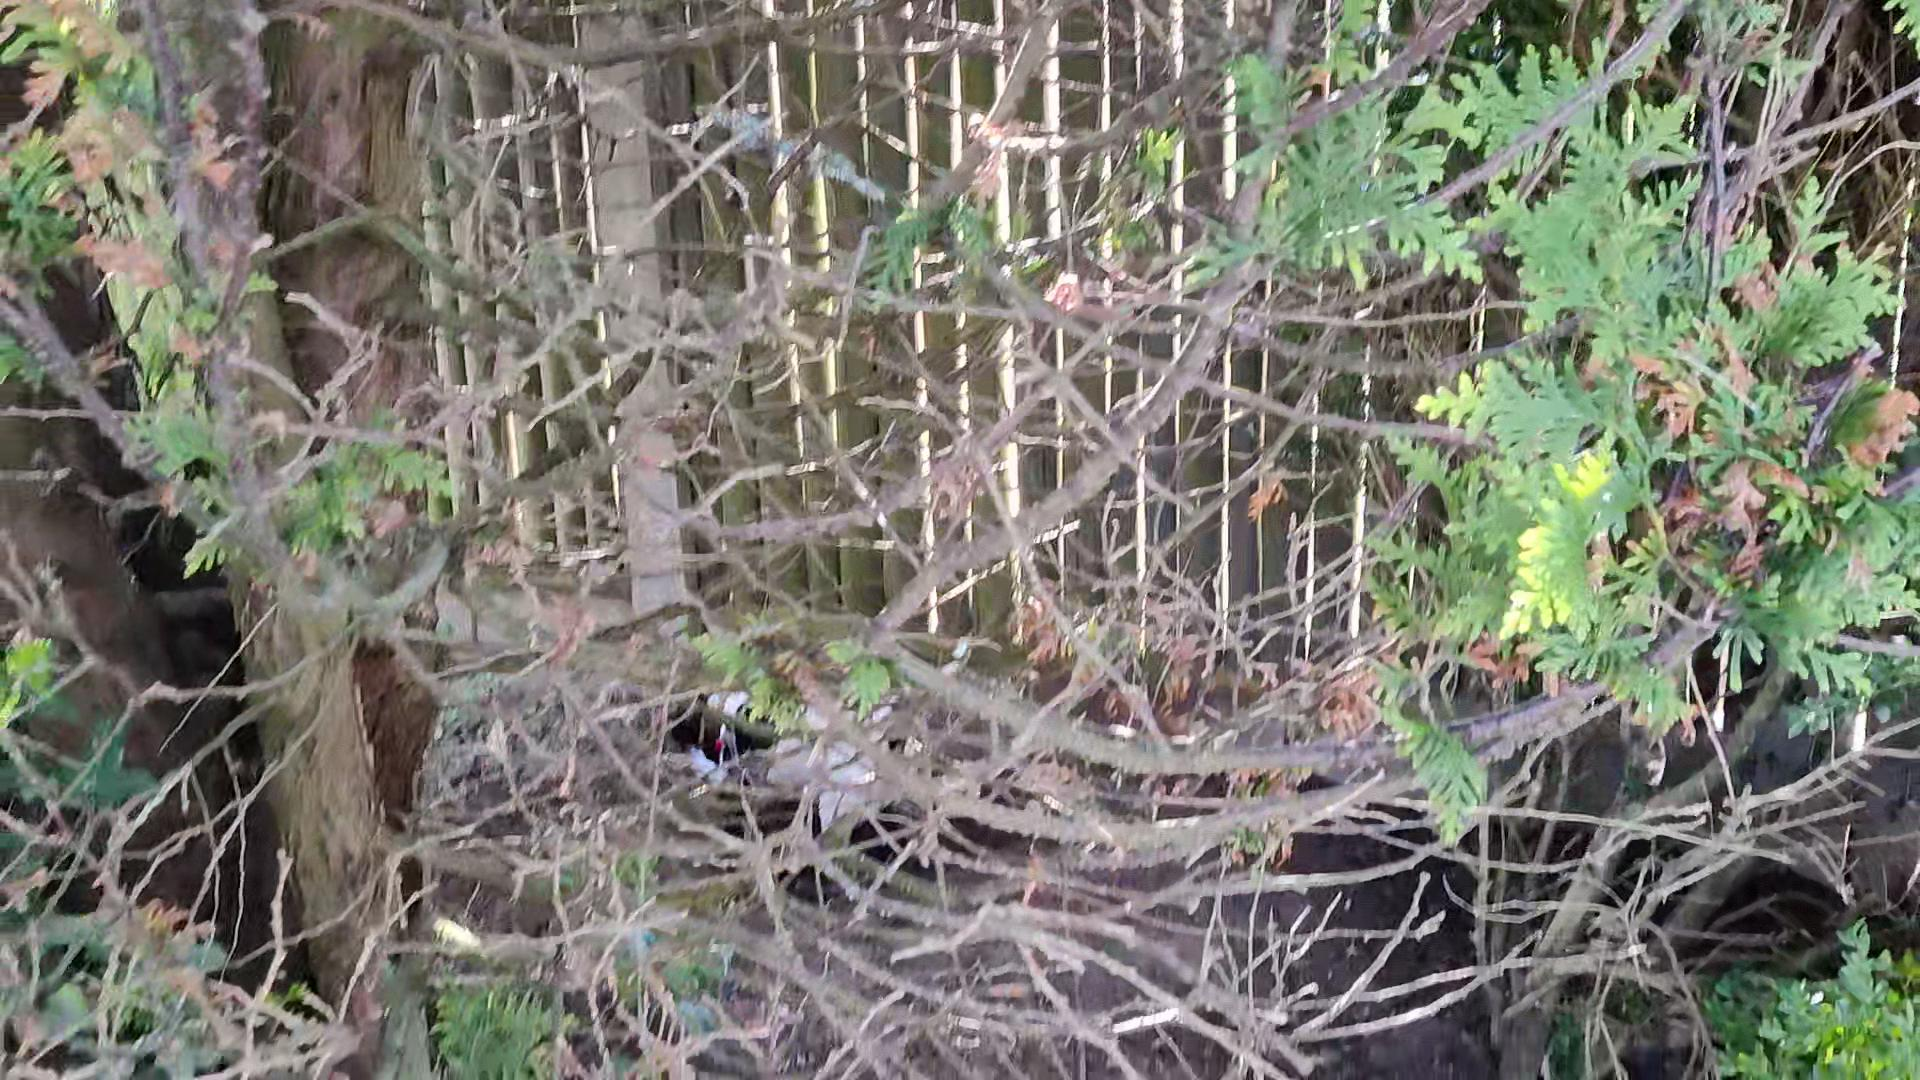Dog: (659, 625, 972, 855)
